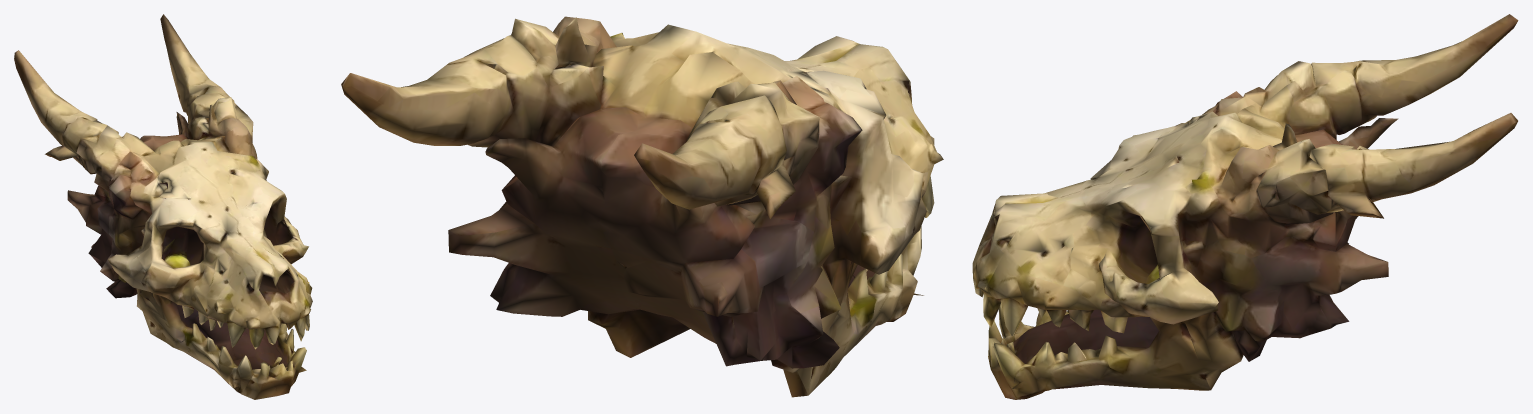
The model's file is dragonskull.glb.
3 renders of one model, left to right at view 1: azimuth 30°, elevation 25°; view 2: azimuth 150°, elevation 25°; view 3: azimuth 270°, elevation 25°, orthographic. The views are drawn at different scales.
Parts seen in each view (by area): view 1: tripo_node_5384ea79-1860-4e9b-896d-39439ee1ff33; view 2: tripo_node_5384ea79-1860-4e9b-896d-39439ee1ff33; view 3: tripo_node_5384ea79-1860-4e9b-896d-39439ee1ff33.
Part boxes in pixels (x1=…): tripo_node_5384ea79-1860-4e9b-896d-39439ee1ff33: x1=14, y1=14, x2=312, y2=399; tripo_node_5384ea79-1860-4e9b-896d-39439ee1ff33: x1=341, y1=16, x2=943, y2=397; tripo_node_5384ea79-1860-4e9b-896d-39439ee1ff33: x1=972, y1=14, x2=1518, y2=399.
Bounding box in the file's own units: 0.5431 × 0.6535 × 0.9998.
Materials: 1 (1 with a texture image).
